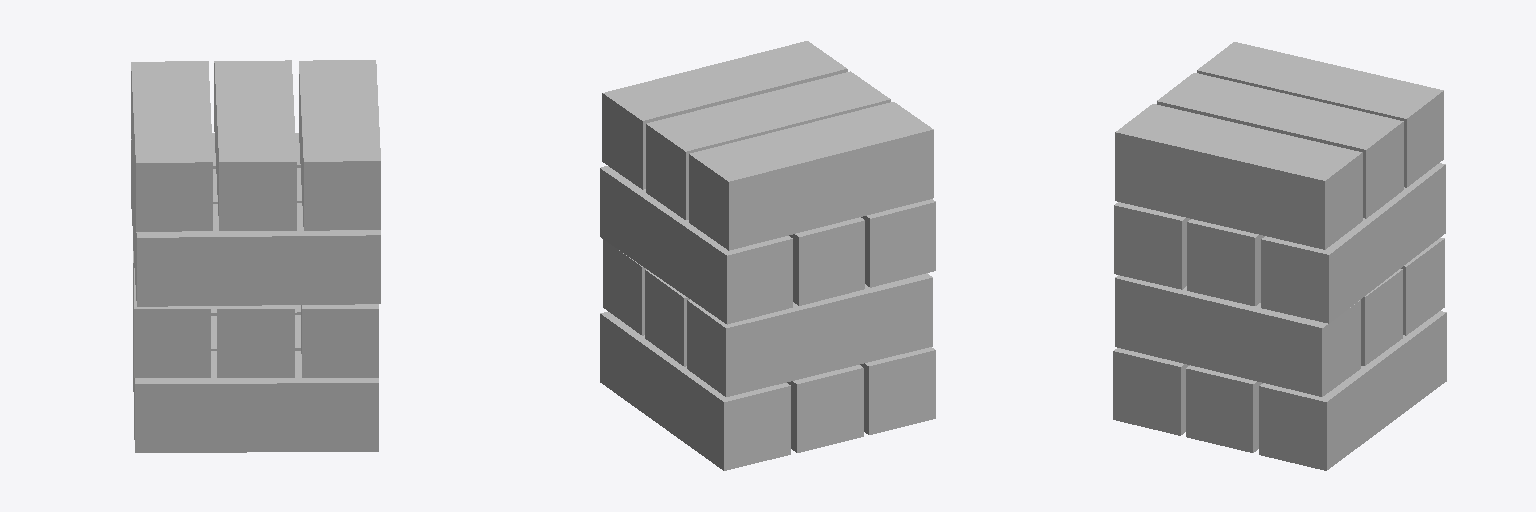
The model's file is block.obj.
3 renders of one model, left to right at view 1: azimuth 30°, elevation 25°; view 2: azimuth 150°, elevation 25°; view 3: azimuth 270°, elevation 25°, orthographic.
Visible parts, largest first — view 1: Block.006_Cube.017, Block_Cube.002, Block.010_Cube.021, Block.009_Cube.020, Block.011_Cube.022, Block.005_Cube.016, Block.003_Cube.014, Block.004_Cube.015; view 2: Block.009_Cube.020, Block.003_Cube.014, Block.008_Cube.019, Block.002_Cube.013, Block.011_Cube.022, Block.010_Cube.021, Block.001_Cube.012, Block.007_Cube.018, Block_Cube.002, Block.006_Cube.017, Block.004_Cube.015, Block.005_Cube.016; view 3: Block.011_Cube.022, Block.005_Cube.016, Block.002_Cube.013, Block.008_Cube.019, Block.010_Cube.021, Block.009_Cube.020, Block.007_Cube.018, Block.006_Cube.017, Block_Cube.002, Block.001_Cube.012, Block.003_Cube.014, Block.004_Cube.015.
Boxes of the visible parts, box(x1,y1,x2,y2) form: Block.006_Cube.017: box(135, 203, 380, 306); Block_Cube.002: box(134, 351, 378, 452); Block.010_Cube.021: box(214, 60, 296, 230); Block.009_Cube.020: box(131, 61, 212, 231); Block.011_Cube.022: box(299, 60, 380, 230); Block.005_Cube.016: box(301, 304, 378, 377); Block.003_Cube.014: box(133, 251, 210, 377); Block.004_Cube.015: box(217, 305, 294, 377); Block.009_Cube.020: box(689, 102, 933, 250); Block.003_Cube.014: box(687, 273, 932, 396); Block.008_Cube.019: box(600, 166, 792, 324); Block.002_Cube.013: box(600, 312, 790, 470); Block.011_Cube.022: box(602, 41, 847, 189); Block.010_Cube.021: box(646, 71, 890, 219); Block.001_Cube.012: box(787, 365, 863, 452); Block.007_Cube.018: box(789, 217, 864, 305); Block_Cube.002: box(860, 347, 935, 434); Block.006_Cube.017: box(861, 199, 935, 287); Block.004_Cube.015: box(645, 269, 689, 366); Block.005_Cube.016: box(603, 239, 645, 335); Block.011_Cube.022: box(1115, 104, 1362, 249); Block.005_Cube.016: box(1115, 275, 1360, 396); Block.002_Cube.013: box(1259, 311, 1446, 470); Block.008_Cube.019: box(1261, 163, 1445, 323); Block.010_Cube.021: box(1157, 73, 1403, 218); Block.009_Cube.020: box(1197, 42, 1443, 187); Block.007_Cube.018: box(1187, 219, 1264, 305); Block.006_Cube.017: box(1114, 202, 1190, 289); Block_Cube.002: box(1113, 348, 1189, 435); Block.001_Cube.012: box(1186, 365, 1262, 452); Block.003_Cube.014: box(1401, 237, 1444, 335); Block.004_Cube.015: box(1361, 269, 1402, 365).
Size of the model in its own units: 4.29 by 4.11 by 4.29.